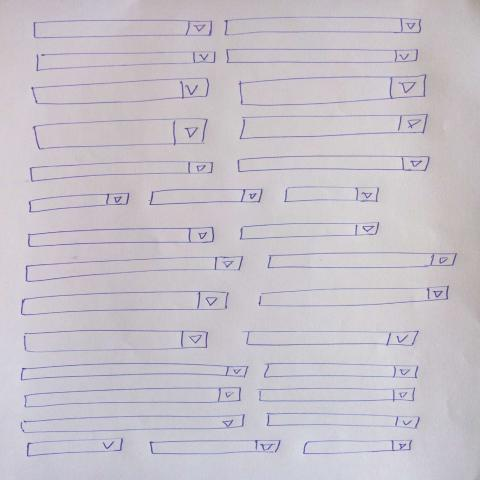Select: (238, 74, 428, 107), (24, 256, 244, 283), (33, 118, 209, 151), (21, 291, 231, 316), (31, 77, 211, 106), (239, 115, 429, 142), (23, 388, 244, 409), (23, 330, 211, 354), (258, 285, 451, 308), (19, 363, 249, 382), (21, 415, 246, 434), (31, 18, 216, 40), (29, 161, 214, 183), (28, 227, 216, 248), (36, 51, 218, 72), (224, 17, 423, 36), (236, 156, 431, 174), (266, 252, 458, 270), (226, 48, 419, 64), (245, 331, 420, 347), (267, 412, 421, 430), (238, 222, 381, 241), (258, 388, 416, 404), (263, 363, 420, 379), (149, 439, 283, 456), (26, 437, 126, 459), (28, 192, 131, 213), (149, 189, 263, 207), (302, 439, 414, 456), (283, 187, 381, 203)
